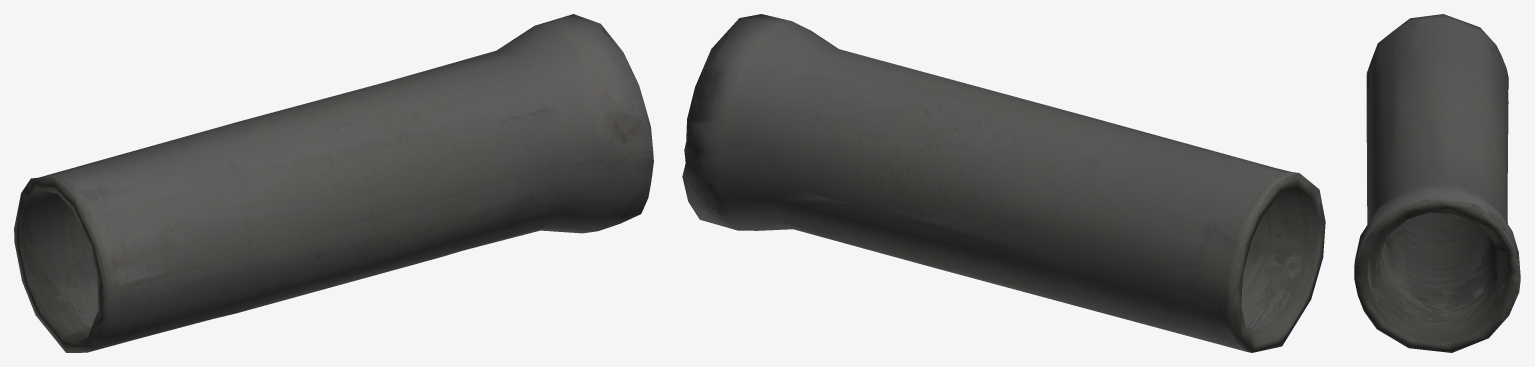
The model's file is pipe.glb.
3 renders of one model, left to right at view 1: azimuth 30°, elevation 25°; view 2: azimuth 150°, elevation 25°; view 3: azimuth 270°, elevation 25°, orthographic. The views are drawn at different scales.
Visible parts, largest first — view 1: vjrgcds_LOD0_TIER3_000; view 2: vjrgcds_LOD0_TIER3_000; view 3: vjrgcds_LOD0_TIER3_000.
Part boxes in pixels (box(x1,y1,x2,y2)): vjrgcds_LOD0_TIER3_000: box(14, 14, 653, 352); vjrgcds_LOD0_TIER3_000: box(682, 14, 1325, 352); vjrgcds_LOD0_TIER3_000: box(1354, 14, 1520, 352).
Bounding box in the file's own units: 1.84 × 0.634 × 0.6223.
1 material, 1 textured.
